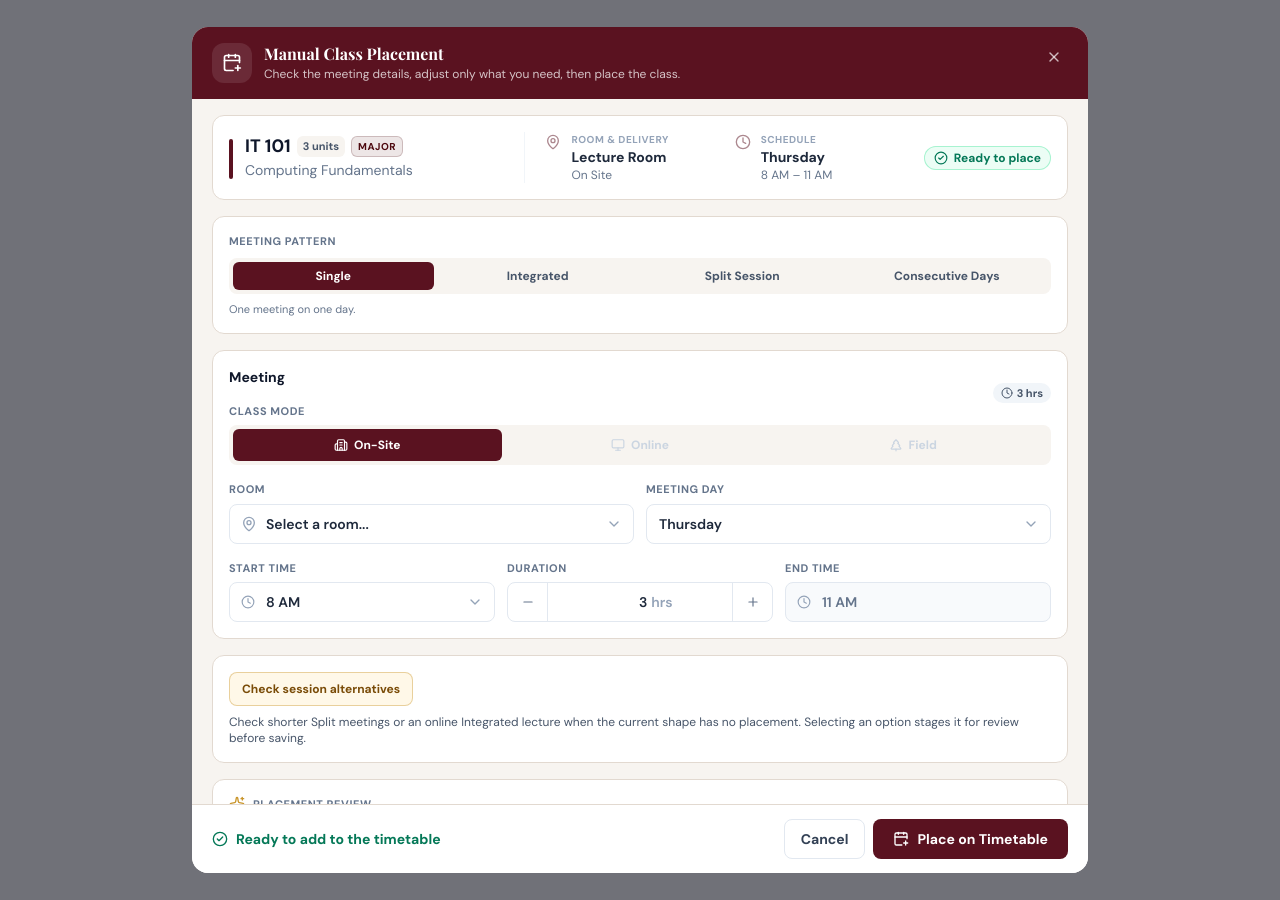
Test: DropModal Integrated configuration › keeps both Integrated meetings on site when the delivery is On-Site
Click the radio button labelled "Integrated".
click(538, 276)  # box [438,262,638,290]
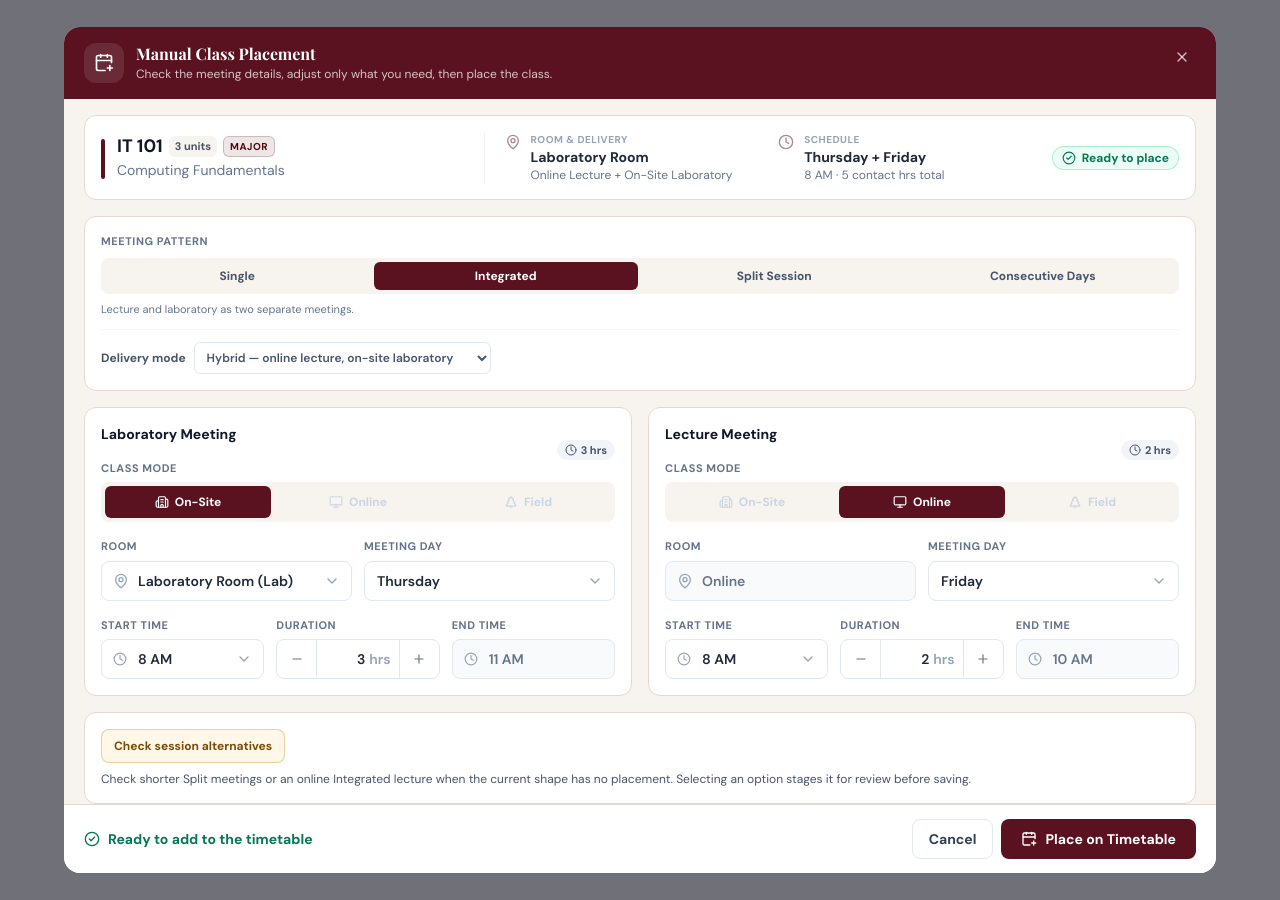
Result: the dropdown labelled "Delivery mode" shows "Hybrid — online lecture, on-site laboratory"
Select "On-Site — lecture and laboratory on campus" in the dropdown labelled "Delivery mode" at (342, 358), box [194,342,491,374]
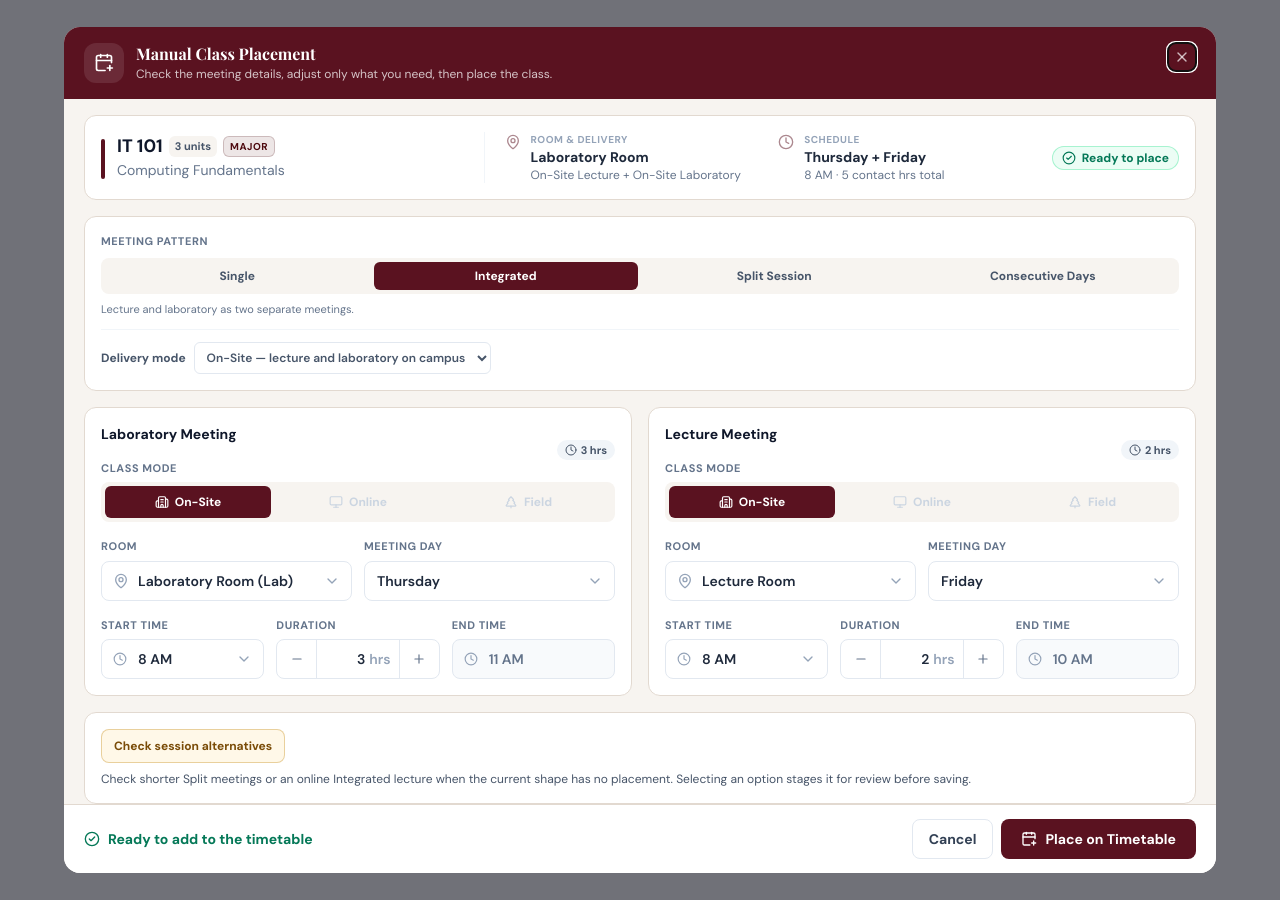
Result: the dropdown named "Lecture Meeting room" shows "Lecture Room" at [665,561,916,601]
